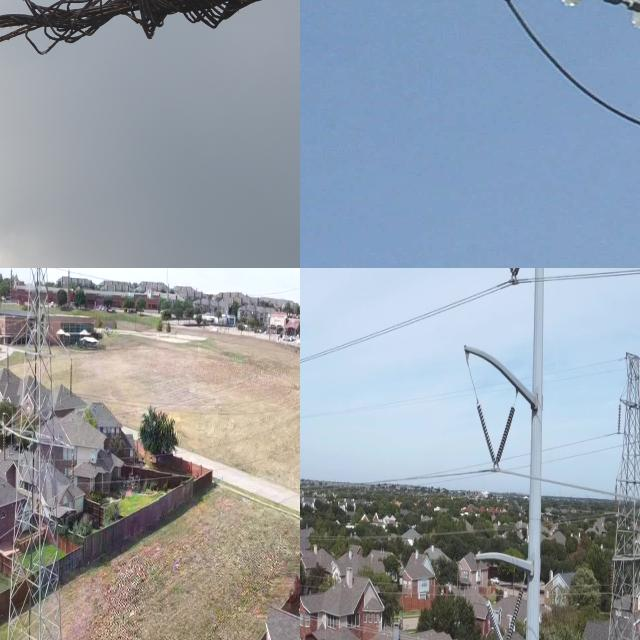杆塔: (0, 268, 80, 640), (602, 344, 640, 640)
正常绝缘子: (475, 399, 499, 469), (493, 404, 517, 469), (68, 448, 77, 488), (68, 356, 74, 399), (66, 268, 72, 307), (5, 346, 11, 382), (8, 268, 14, 303), (2, 426, 7, 464), (617, 404, 622, 434), (511, 268, 520, 281), (614, 484, 618, 507)
电缆破损: (0, 0, 285, 63)
绝缘子破损: (615, 0, 639, 12), (592, 0, 612, 4)
